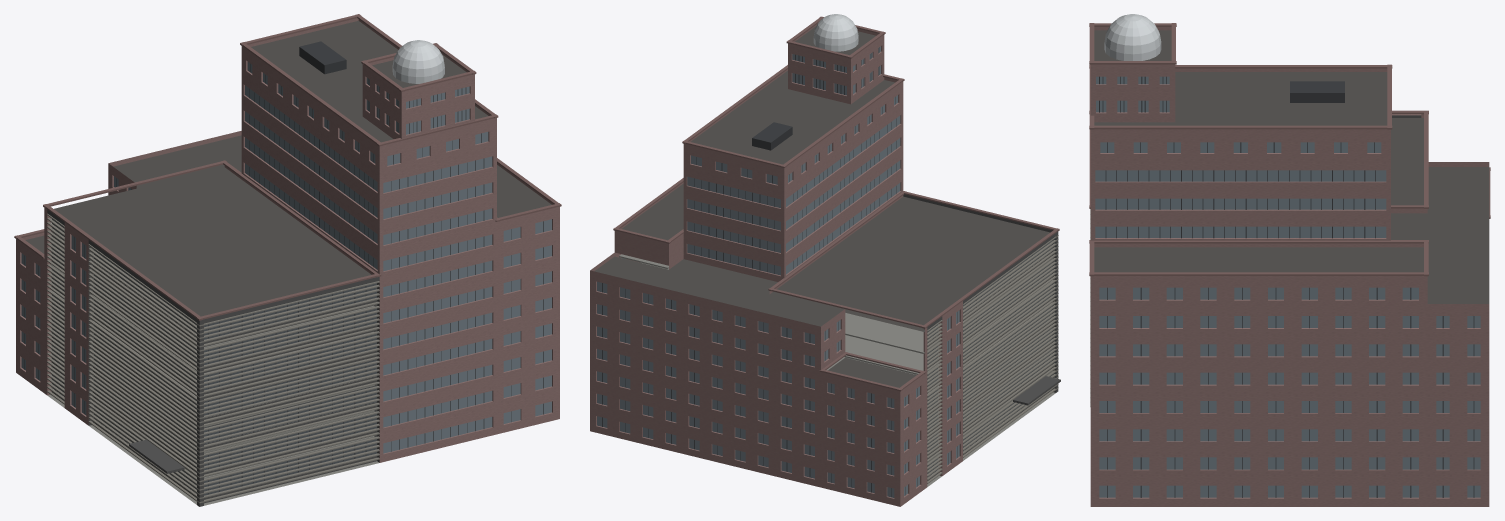
3 views of the same model, side by side, from view 1: azimuth 30°, elevation 25°; view 2: azimuth 150°, elevation 25°; view 3: azimuth 270°, elevation 25° (orthographic). The views are drawn at different scales.
Visible parts, largest first — view 1: hoam__brick, hoam__louvre, hoam__roof, hoam__glass, hoam__glass_dark, hoam__panel, hoam__brickdark, hoam__frame, hoam__slab, hoam__dome; view 2: hoam__brick, hoam__roof, hoam__glass, hoam__louvre, hoam__brickdark, hoam__slab, hoam__frame, hoam__glass_dark, hoam__panel, hoam__dome; view 3: hoam__brick, hoam__roof, hoam__glass, hoam__brickdark, hoam__frame, hoam__dome.
Part boxes in pixels (x1,y1,x2,y2): hoam__brick: [16, 18, 559, 462]; hoam__louvre: [47, 214, 379, 503]; hoam__roof: [25, 21, 551, 316]; hoam__glass: [21, 62, 551, 453]; hoam__glass_dark: [52, 219, 376, 495]; hoam__panel: [47, 209, 379, 506]; hoam__brickdark: [14, 14, 561, 320]; hoam__frame: [24, 41, 543, 494]; hoam__slab: [47, 239, 379, 505]; hoam__dome: [392, 40, 444, 83]; hoam__brick: [590, 23, 962, 506]; hoam__roof: [594, 26, 1049, 387]; hoam__glass: [597, 46, 959, 497]; hoam__louvre: [927, 235, 1058, 483]; hoam__brickdark: [613, 16, 1059, 391]; hoam__slab: [619, 254, 1055, 486]; hoam__frame: [602, 47, 1049, 496]; hoam__glass_dark: [927, 238, 1056, 477]; hoam__panel: [903, 194, 1060, 480]; hoam__dome: [813, 14, 858, 51]; hoam__brick: [1090, 27, 1489, 506]; hoam__roof: [1094, 30, 1489, 303]; hoam__glass: [1095, 76, 1480, 497]; hoam__brickdark: [1089, 23, 1490, 276]; hoam__frame: [1099, 76, 1474, 497]; hoam__dome: [1104, 14, 1161, 60].
Size of the model in its own units: 51.81 by 51.2 by 43.74.
10 materials, 1 textured.
